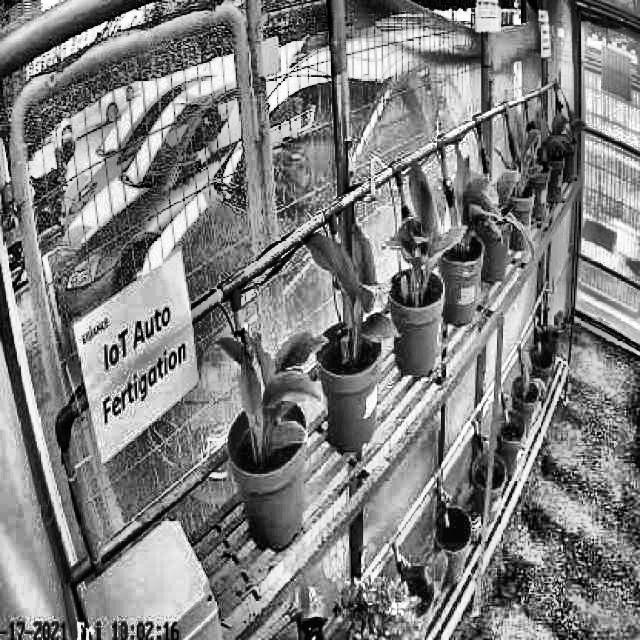plants: (216, 330, 330, 448), (304, 228, 399, 346), (384, 161, 462, 287), (449, 148, 503, 252), (512, 114, 543, 198)
